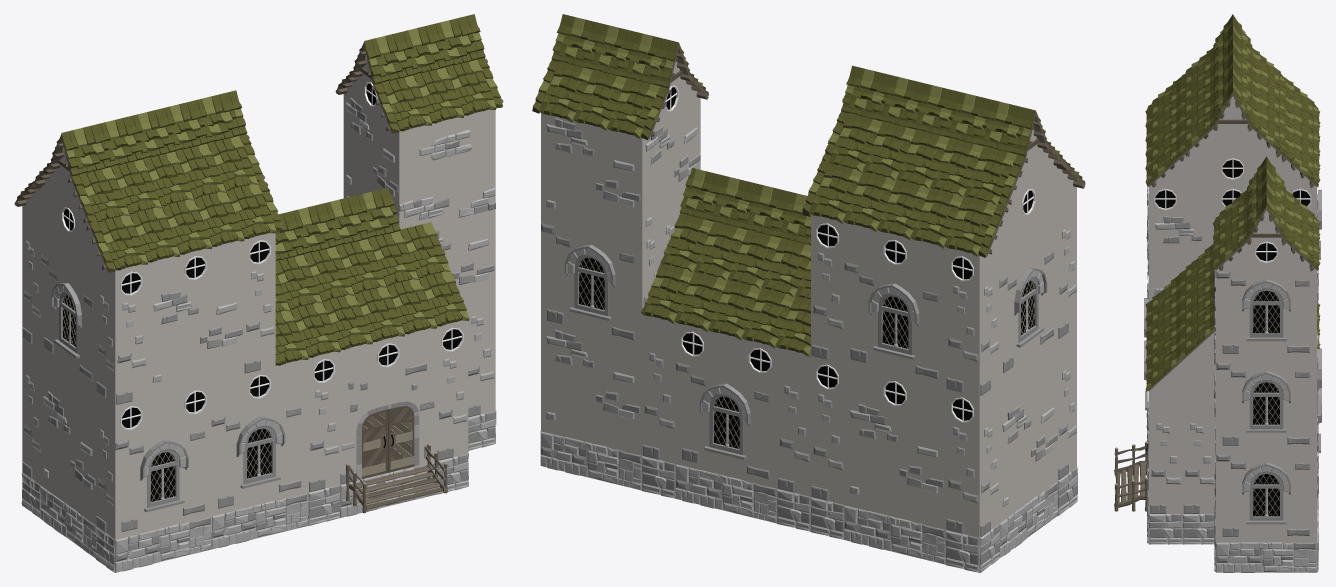
File: House_19.glb
3 views of the same model, side by side, from view 1: azimuth 30°, elevation 25°; view 2: azimuth 150°, elevation 25°; view 3: azimuth 270°, elevation 25° (orthographic). The views are drawn at different scales.
Visible parts, largest first — view 1: WINDOW_03_31, WINDOW_03_30, WALL_01_4, WALL_03_2, DOOR_02_4, WINDOW_03_32, WALL_01_3, WALL_01_8, WALL_01_2, WALL_06_11, WALL_06_12, WALL_06_4 (+80 smaller); view 2: WALL_01_5, WINDOW_03_33, WALL_01_6, WINDOW_03_34, WALL_01_7, WINDOW_03_36, WALL_01_3, WINDOW_03_32, WALL_01_8, FOUNDATION_03_6, FOUNDATION_03_8, FOUNDATION_03_7 (+78 smaller); view 3: WINDOW_03_35, WINDOW_03_29, WINDOW_03_37, WALL_01_9, WALL_06_6, FOUNDATION_03_5, WALL_06_16, STAIRS_01_3, FOUNDATION_02_7, ROOF_TRIAGLE_QUAD_29, ROOF_TRIANGLE_QUAD_WINDOW_24, ROOF_TRIANGLE_QUAD_WINDOW_22 (+82 smaller).
Boxes of the visible parts, x1,y1,x2,y2 form: WINDOW_03_31: (115,415,211,538); WINDOW_03_30: (211,391,307,515); WALL_01_4: (147,273,243,396); WALL_03_2: (399,109,495,229); DOOR_02_4: (340,360,436,484); WINDOW_03_32: (40,250,96,390); WALL_01_3: (41,384,96,524); WALL_01_8: (343,93,400,228); WALL_01_2: (432,209,495,315); WALL_06_11: (243,265,275,373); WALL_06_12: (115,296,147,404); WALL_06_4: (307,384,339,492); WALL_01_5: (844,399,945,529); WINDOW_03_33: (844,257,945,387); WALL_01_6: (541,325,642,455); WINDOW_03_34: (676,357,776,487); WALL_01_7: (541,113,642,243); WINDOW_03_36: (541,219,642,348); WALL_01_3: (999,375,1057,522); WINDOW_03_32: (999,233,1057,381); WALL_01_8: (642,97,700,242); FOUNDATION_03_6: (540,430,642,490); FOUNDATION_03_8: (844,505,945,564); FOUNDATION_03_7: (675,463,776,523); WINDOW_03_35: (1216,359,1316,450); WINDOW_03_29: (1216,450,1316,541); WINDOW_03_37: (1216,267,1316,358); WALL_01_9: (1148,214,1218,300); WALL_06_6: (1148,422,1182,513); FOUNDATION_03_5: (1216,542,1316,572); WALL_06_16: (1182,422,1215,513); STAIRS_01_3: (1114,441,1148,511); FOUNDATION_02_7: (1148,513,1182,544); ROOF_TRIAGLE_QUAD_29: (1182,184,1215,214); ROOF_TRIANGLE_QUAD_WINDOW_24: (1249,237,1283,267); ROOF_TRIANGLE_QUAD_WINDOW_22: (1216,153,1249,183).
Bounding box in the file's own units: 13.63 × 12.14 × 6.18.
1 material, 1 textured.
